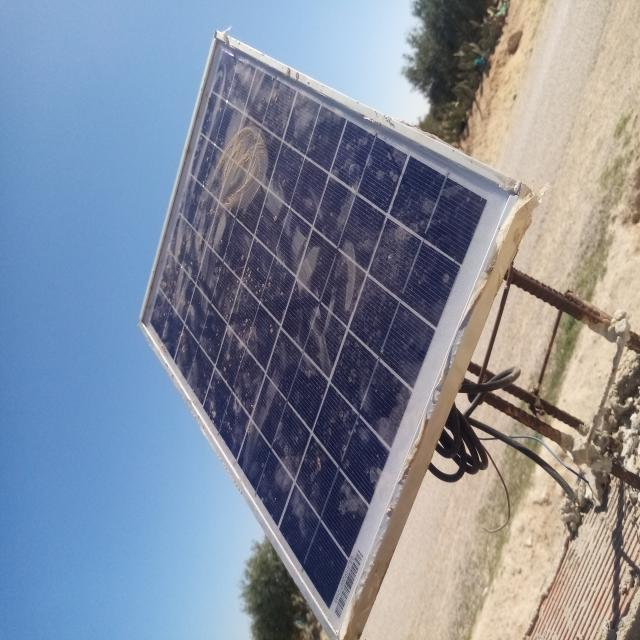faulty: (138, 41, 518, 640)
